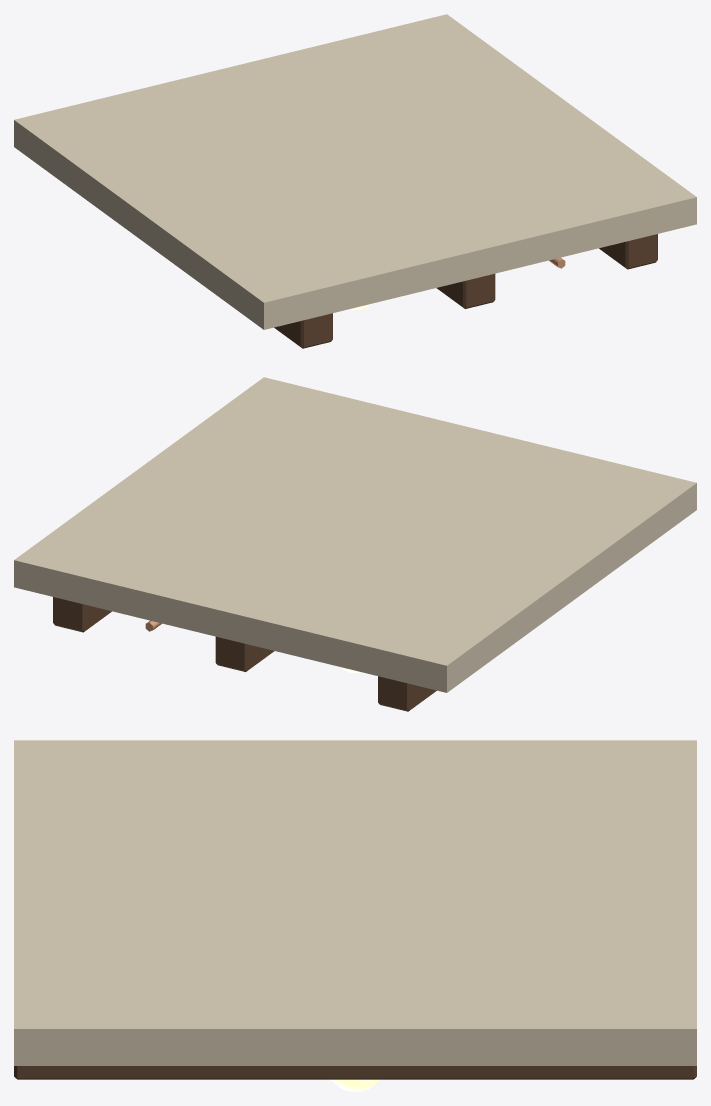
File: ceil_hm_lamp.glb
3 renders of one model, top to bottom at view 1: azimuth 30°, elevation 25°; view 2: azimuth 150°, elevation 25°; view 3: azimuth 270°, elevation 25°, orthographic. The views are drawn at different scales.
Visible parts, largest first — view 1: ceil_hm_lamp; view 2: ceil_hm_lamp; view 3: ceil_hm_lamp.
Part boxes in pixels (x1=…): ceil_hm_lamp: x1=14, y1=14, x2=696, y2=348; ceil_hm_lamp: x1=14, y1=377, x2=696, y2=711; ceil_hm_lamp: x1=14, y1=740, x2=696, y2=1091.
Size of the model in its own units: 4 by 1.32 by 4.
